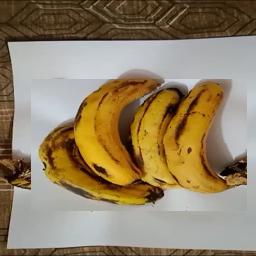Banana Semifresh: (31, 79, 247, 211)
